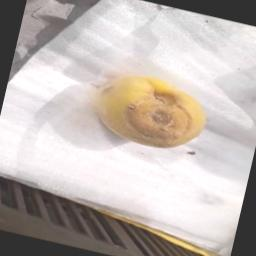Peach Rotten: (80, 54, 220, 175)
